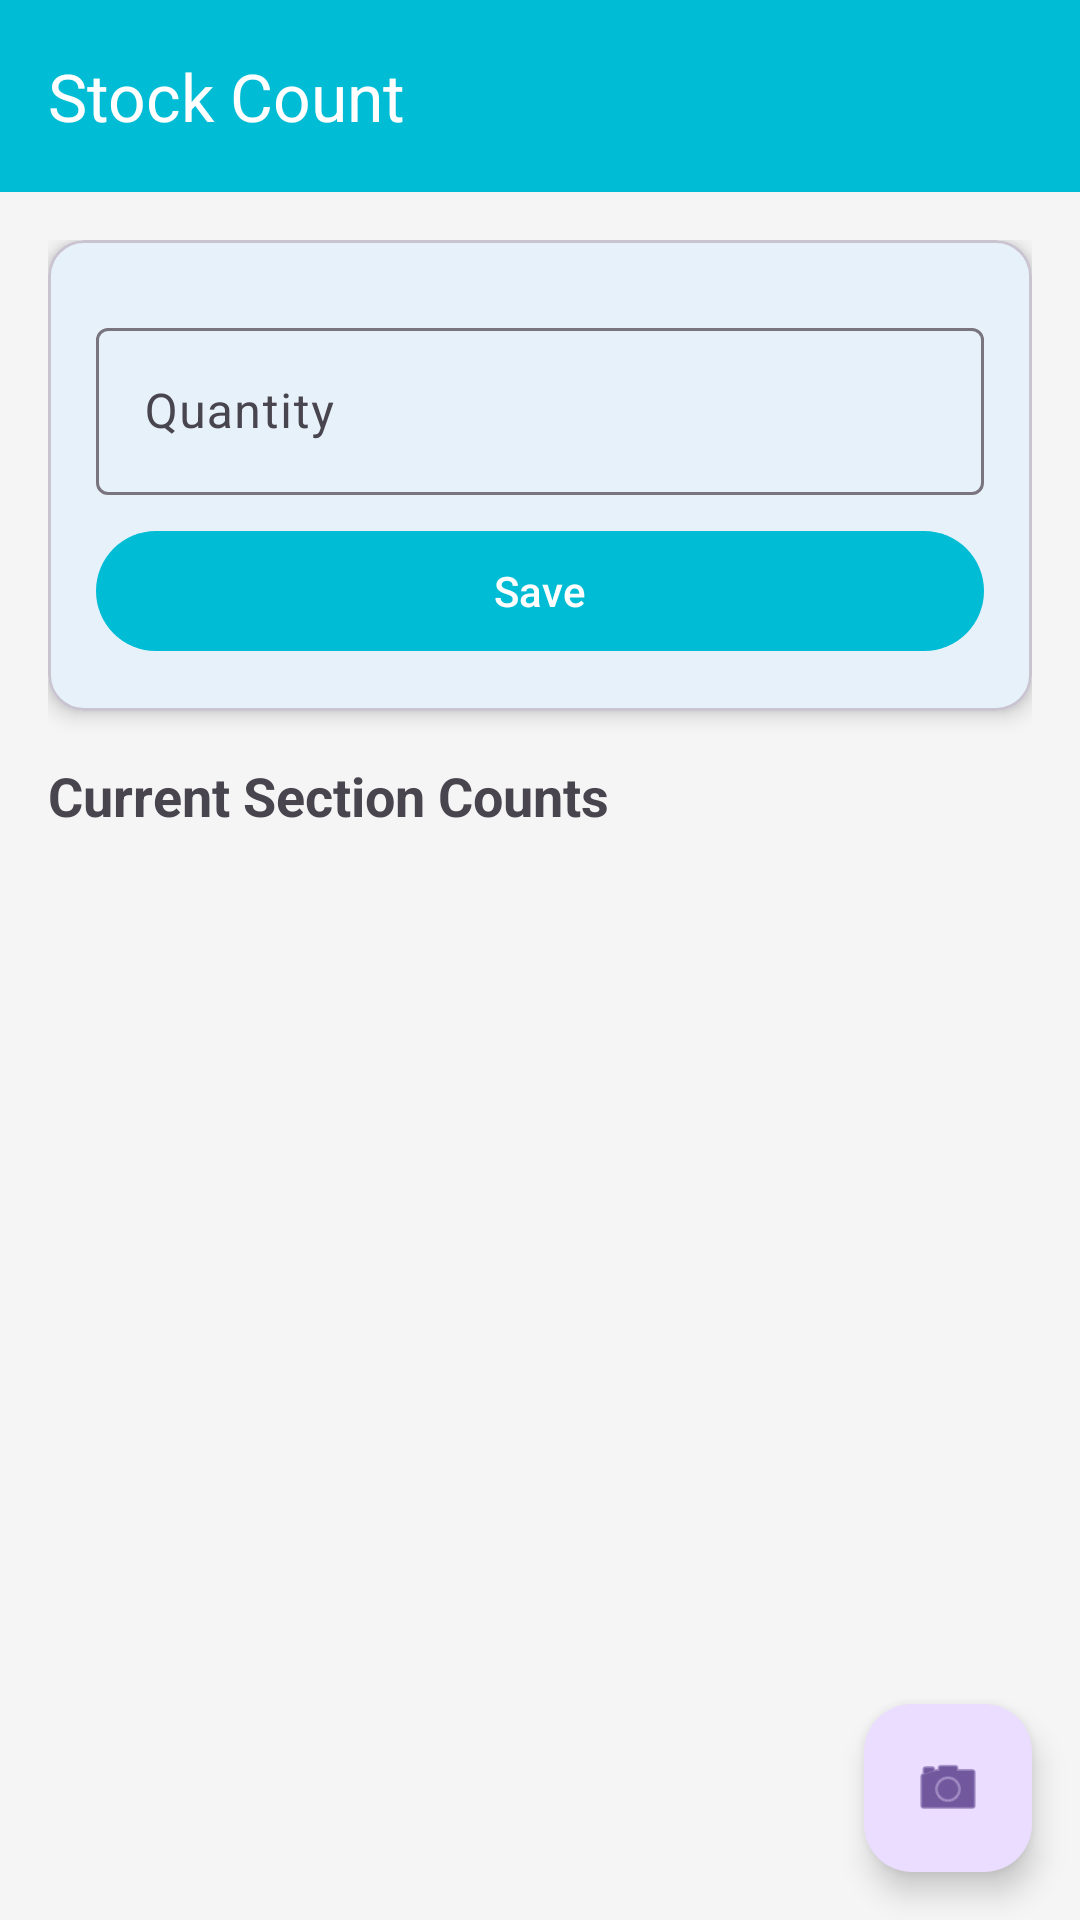

Icon click points for this 1080px×1920px phone screenshot, format [x,y]:
Scan: [948,1786]
